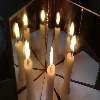fire: (50, 45, 54, 67)
